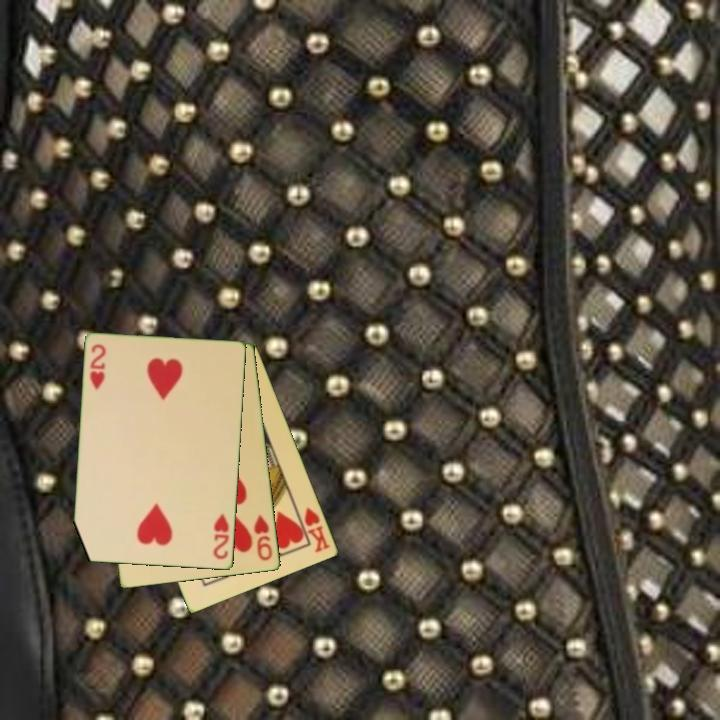2h: (210, 510, 232, 562), (87, 341, 109, 393)
9h: (251, 511, 275, 564)
Kh: (293, 504, 333, 556)
